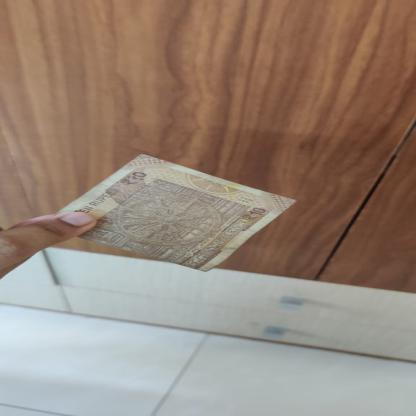New10Back: (55, 154, 299, 273)
